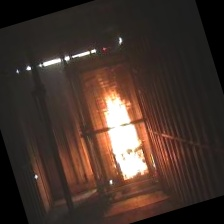fire: (87, 68, 159, 188)
